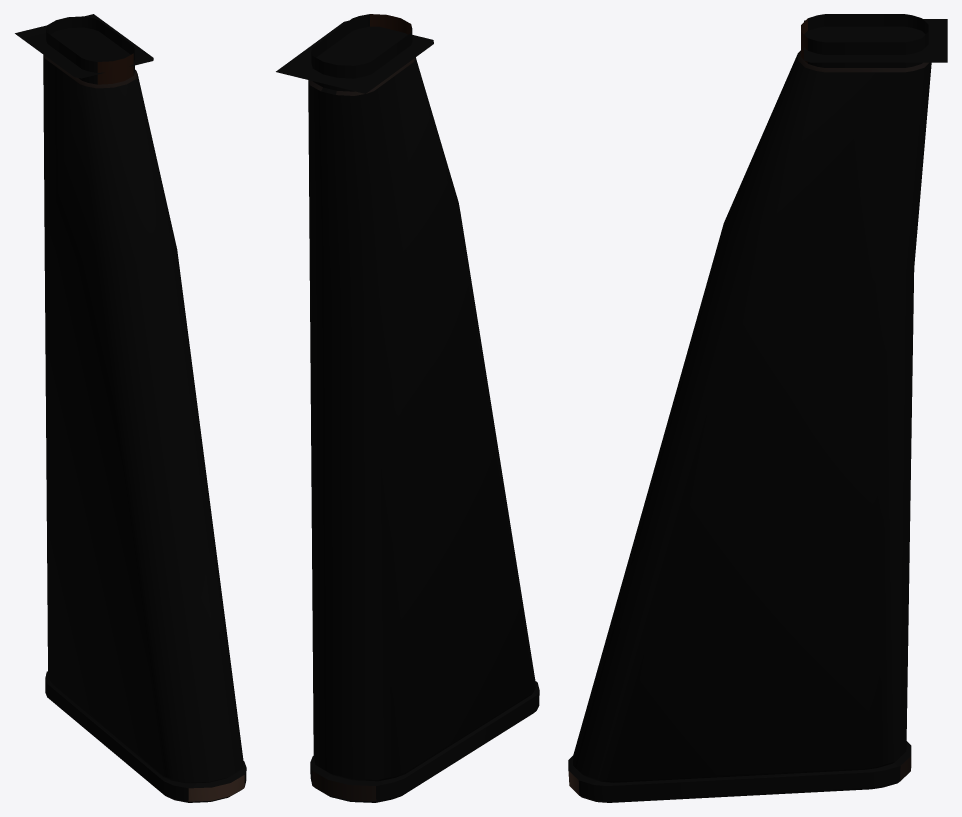
The model's file is Stock_AK_Wood.fbx.
3 views of the same model, side by side, from view 1: azimuth 30°, elevation 25°; view 2: azimuth 150°, elevation 25°; view 3: azimuth 270°, elevation 25° (orthographic). The views are drawn at different scales.
Visible parts, largest first — view 1: asset_AK47.002; view 2: asset_AK47.002; view 3: asset_AK47.002.
Boxes of the visible parts, x1,y1,x2,y2 form: asset_AK47.002: (15, 14, 246, 802); asset_AK47.002: (276, 14, 539, 802); asset_AK47.002: (568, 14, 947, 802).
Bounding box in the file's own units: 0.0179 × 0.1415 × 0.0644.
